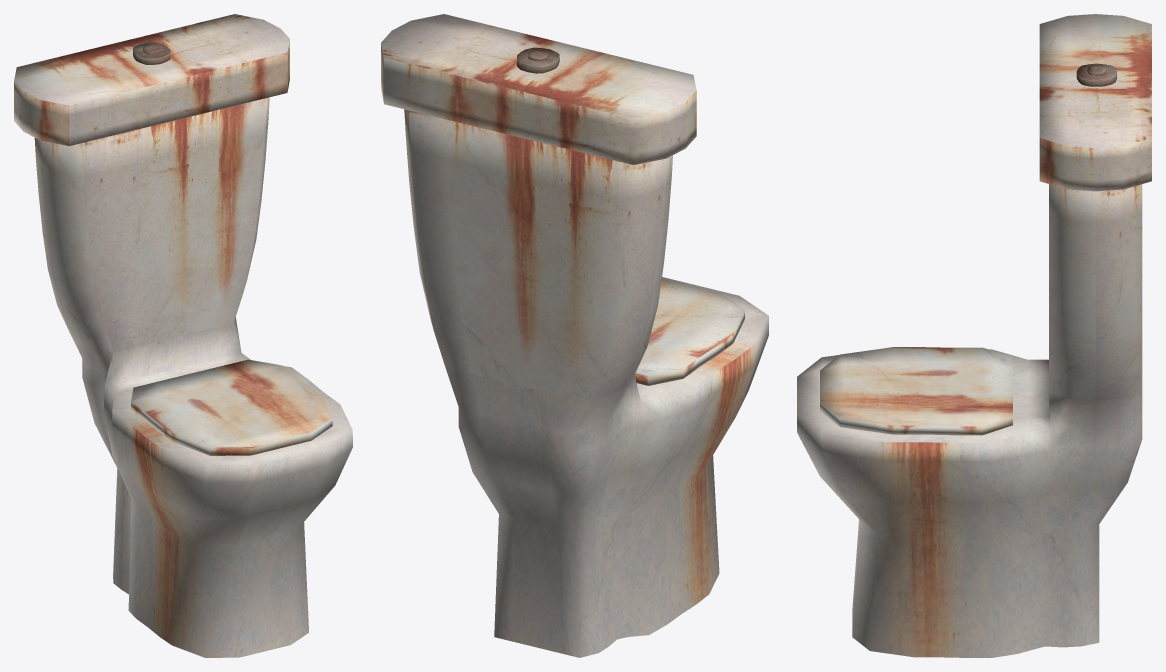
File: CessoArrugginito.fbx
The picture shows the model from 3 angles, left to right: view 1: azimuth 30°, elevation 25°; view 2: azimuth 150°, elevation 25°; view 3: azimuth 270°, elevation 25°; orthographic projection. The views are drawn at different scales.
Parts seen in each view (by area): view 1: Box003; view 2: Box003; view 3: Box003.
Boxes of the visible parts, box(x1,y1,x2,y2) form: Box003: box(14, 14, 352, 657); Box003: box(381, 14, 768, 657); Box003: box(797, 14, 1151, 657).
Size of the model in its own units: 41.58 by 80.54 by 46.5.
